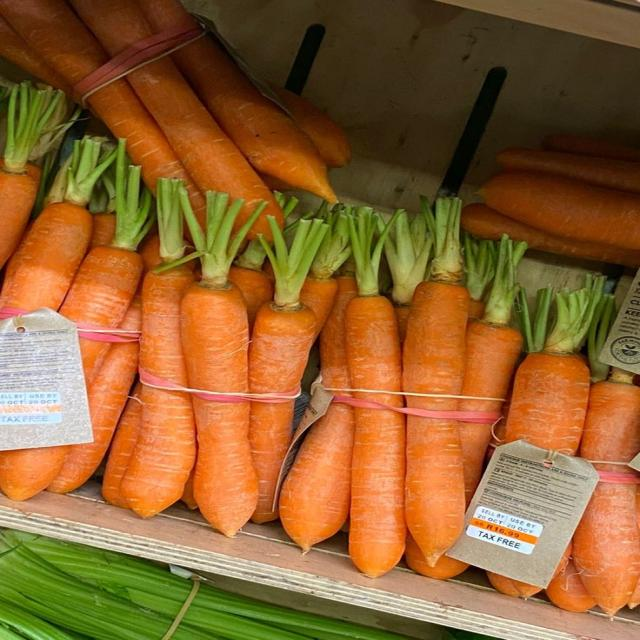carrot: (127, 57, 282, 237), (173, 38, 336, 202), (345, 208, 406, 577), (0, 138, 114, 310), (0, 139, 113, 311), (505, 276, 604, 454), (60, 140, 153, 328), (506, 276, 603, 454), (181, 192, 263, 394), (87, 79, 204, 216), (47, 341, 139, 493), (403, 198, 468, 411), (249, 218, 326, 394), (480, 171, 639, 249), (459, 235, 526, 411), (0, 83, 63, 267), (140, 179, 195, 386), (461, 203, 639, 266), (280, 403, 354, 551), (573, 478, 639, 615), (385, 198, 432, 341), (270, 85, 351, 167), (497, 148, 639, 193), (300, 210, 351, 335), (0, 16, 70, 94), (102, 383, 141, 508), (228, 241, 273, 332), (229, 248, 273, 329), (405, 534, 468, 579), (464, 234, 497, 319), (546, 559, 595, 612), (543, 134, 639, 161), (300, 275, 337, 335), (89, 166, 116, 248), (487, 572, 542, 599), (90, 212, 115, 248), (140, 234, 160, 273), (259, 172, 295, 191), (181, 470, 198, 510), (469, 299, 485, 319), (636, 487, 639, 527)
